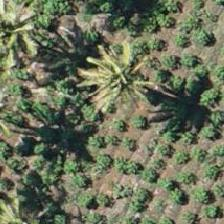coconut_tree: (75, 23, 165, 113)
